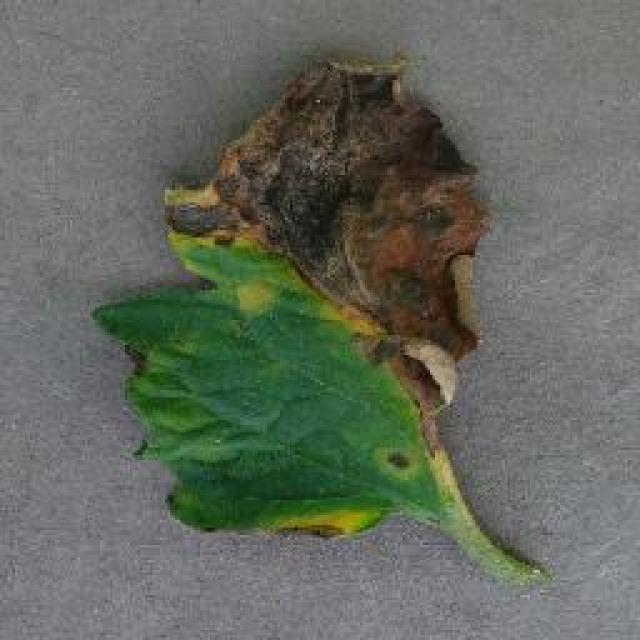Tomato Early blight leaf: (92, 54, 492, 544)
